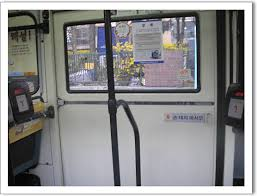exit: (50, 10, 221, 186)
